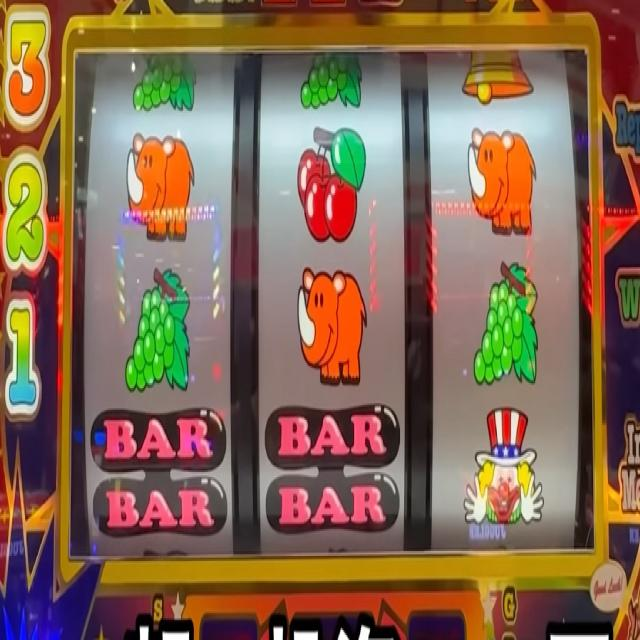bar: (90, 406, 227, 538), (266, 408, 400, 526)
bell: (460, 45, 532, 101)
cherry: (297, 121, 368, 243)
display: (71, 39, 596, 561)
elephant: (296, 261, 368, 390), (468, 120, 538, 240), (126, 131, 196, 244)
grape: (473, 260, 539, 399), (125, 266, 194, 390), (131, 48, 198, 114), (300, 52, 366, 111)
